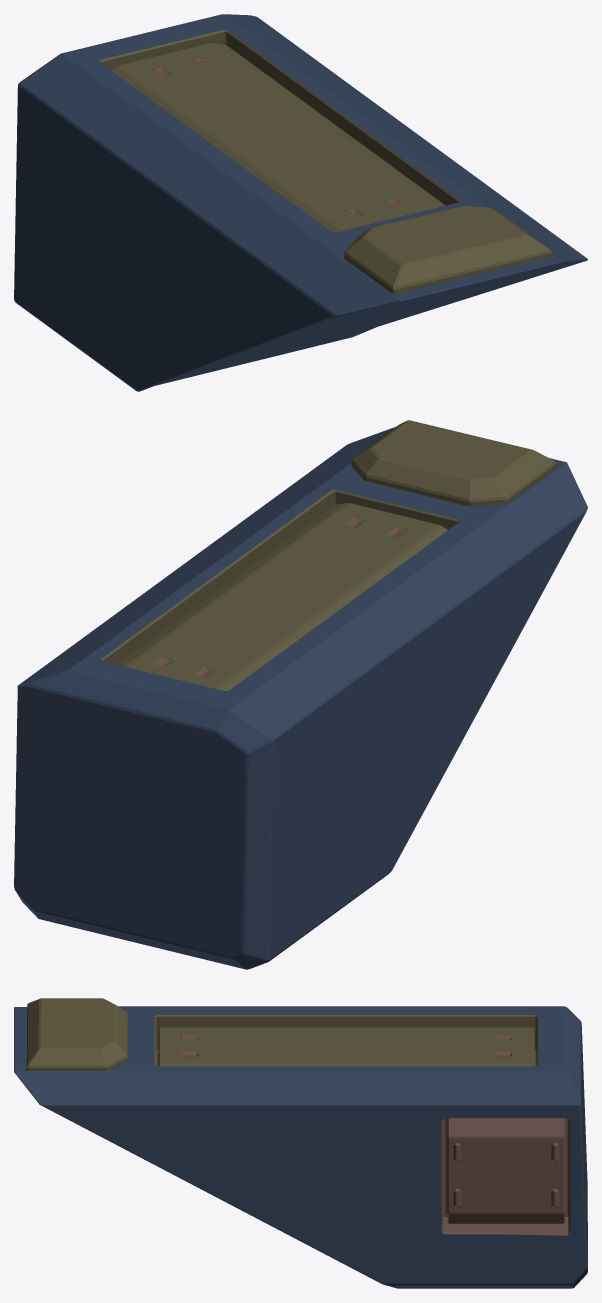
File: 大门主体层_003.fbx
3 views of the same model, one above another, from view 1: azimuth 30°, elevation 25°; view 2: azimuth 150°, elevation 25°; view 3: azimuth 270°, elevation 25° (orthographic). The views are drawn at different scales.
Visible parts, largest first — view 1: 大门主体层.003; view 2: 大门主体层.003; view 3: 大门主体层.003.
Part boxes in pixels (box(x1,y1,x2,y2)): 大门主体层.003: box(14, 14, 587, 391); 大门主体层.003: box(14, 420, 587, 969); 大门主体层.003: box(14, 998, 587, 1288).
Size of the model in its own units: 1.74 by 1.84 by 4.28.
